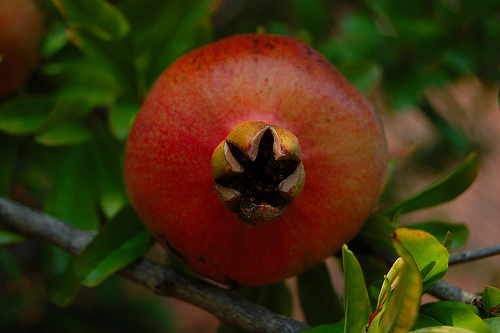pomogranate: (124, 36, 387, 282)
